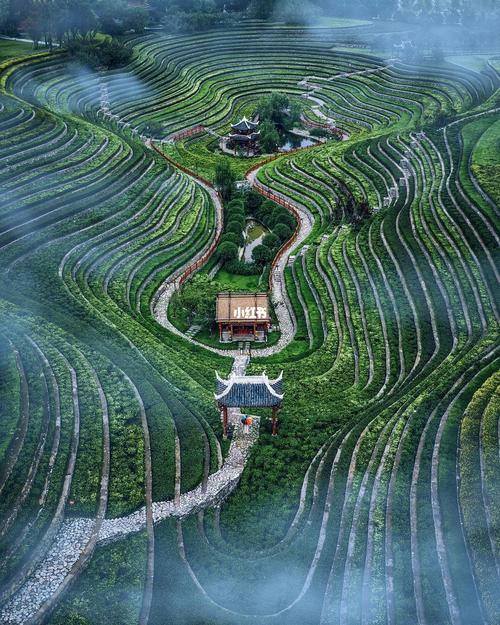buildings: (229, 111, 500, 442)
mountain: (44, 31, 477, 138)
